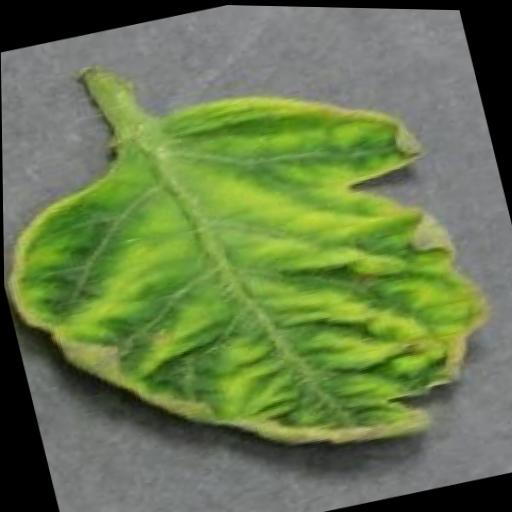Yellow Leaf Curl Virus: (1, 45, 512, 512)
